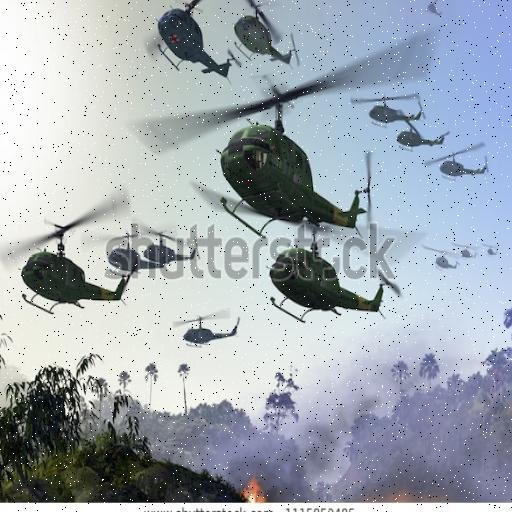helicopter: (168, 70, 392, 260), (21, 205, 130, 314), (277, 234, 398, 330), (150, 1, 234, 98), (245, 1, 309, 80), (358, 80, 428, 132), (170, 315, 251, 358), (424, 138, 498, 183), (147, 229, 195, 272), (110, 233, 144, 290), (402, 119, 452, 151), (425, 240, 465, 277), (457, 228, 479, 259), (424, 1, 447, 21), (479, 240, 499, 256)
